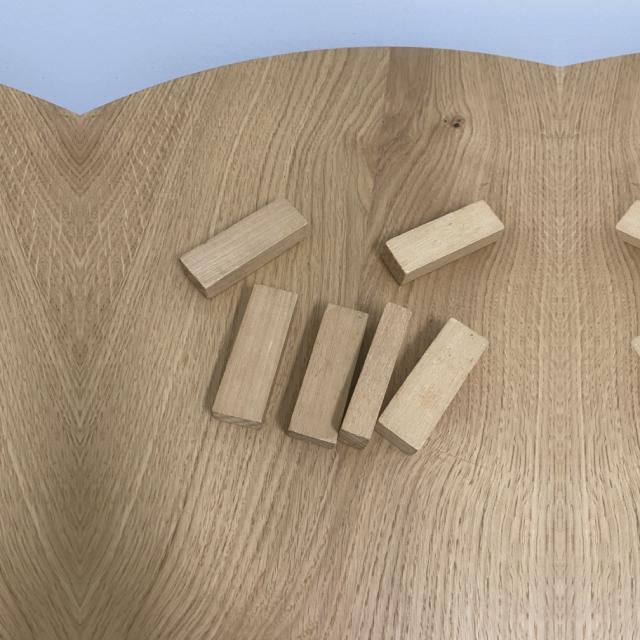jenga: (374, 317, 490, 456), (176, 198, 308, 300), (212, 284, 298, 430), (288, 304, 368, 450), (338, 302, 412, 449), (380, 200, 505, 285)
